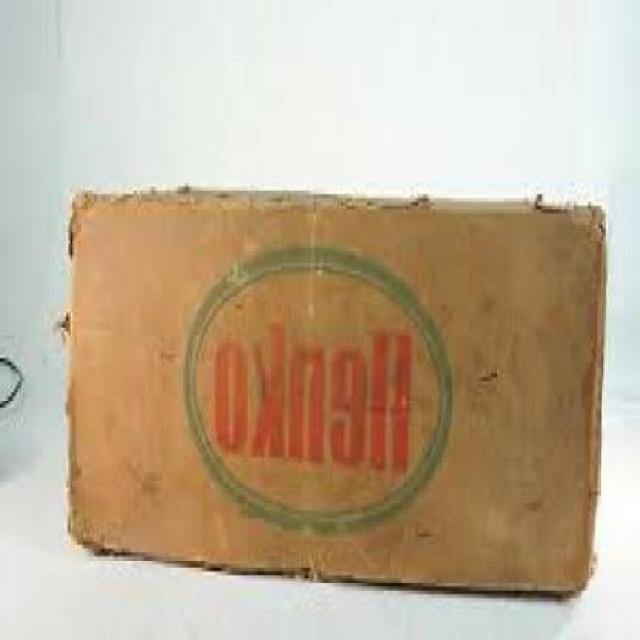cardboard: (69, 183, 609, 599)
